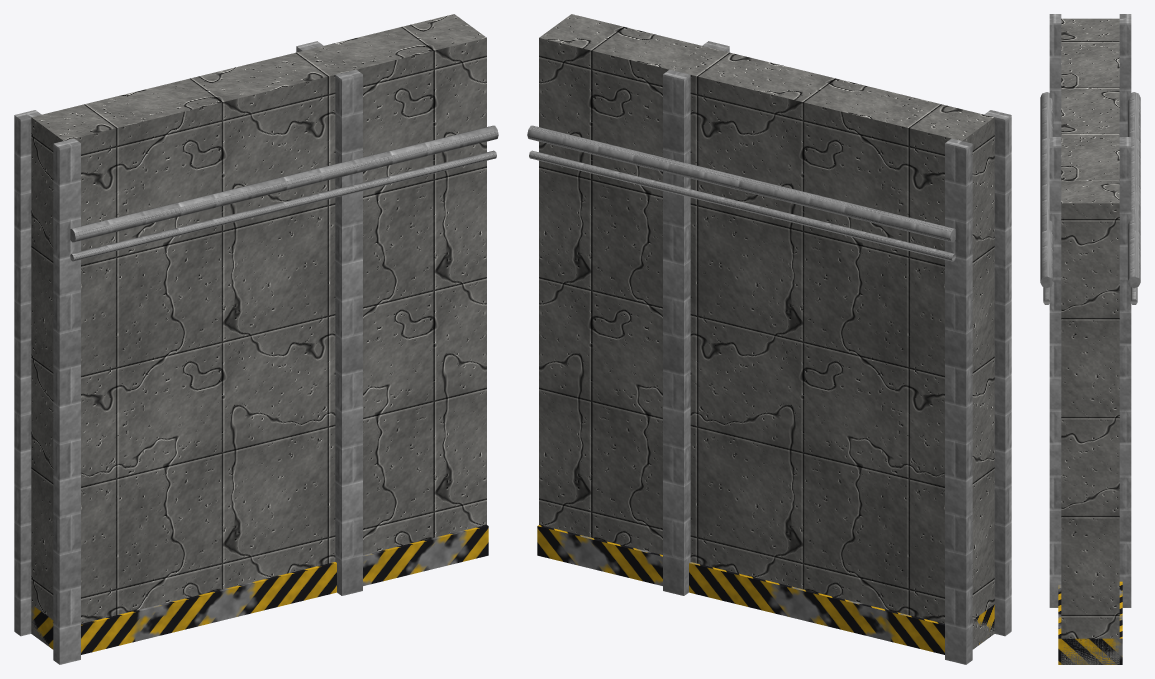
Rendered from wall_6.obj.
3 views of the same model, side by side, from view 1: azimuth 30°, elevation 25°; view 2: azimuth 150°, elevation 25°; view 3: azimuth 270°, elevation 25° (orthographic). The views are drawn at different scales.
Size of the model in its own units: 6.15 by 7 by 1.38.
Materials: 4 (4 with a texture image).
